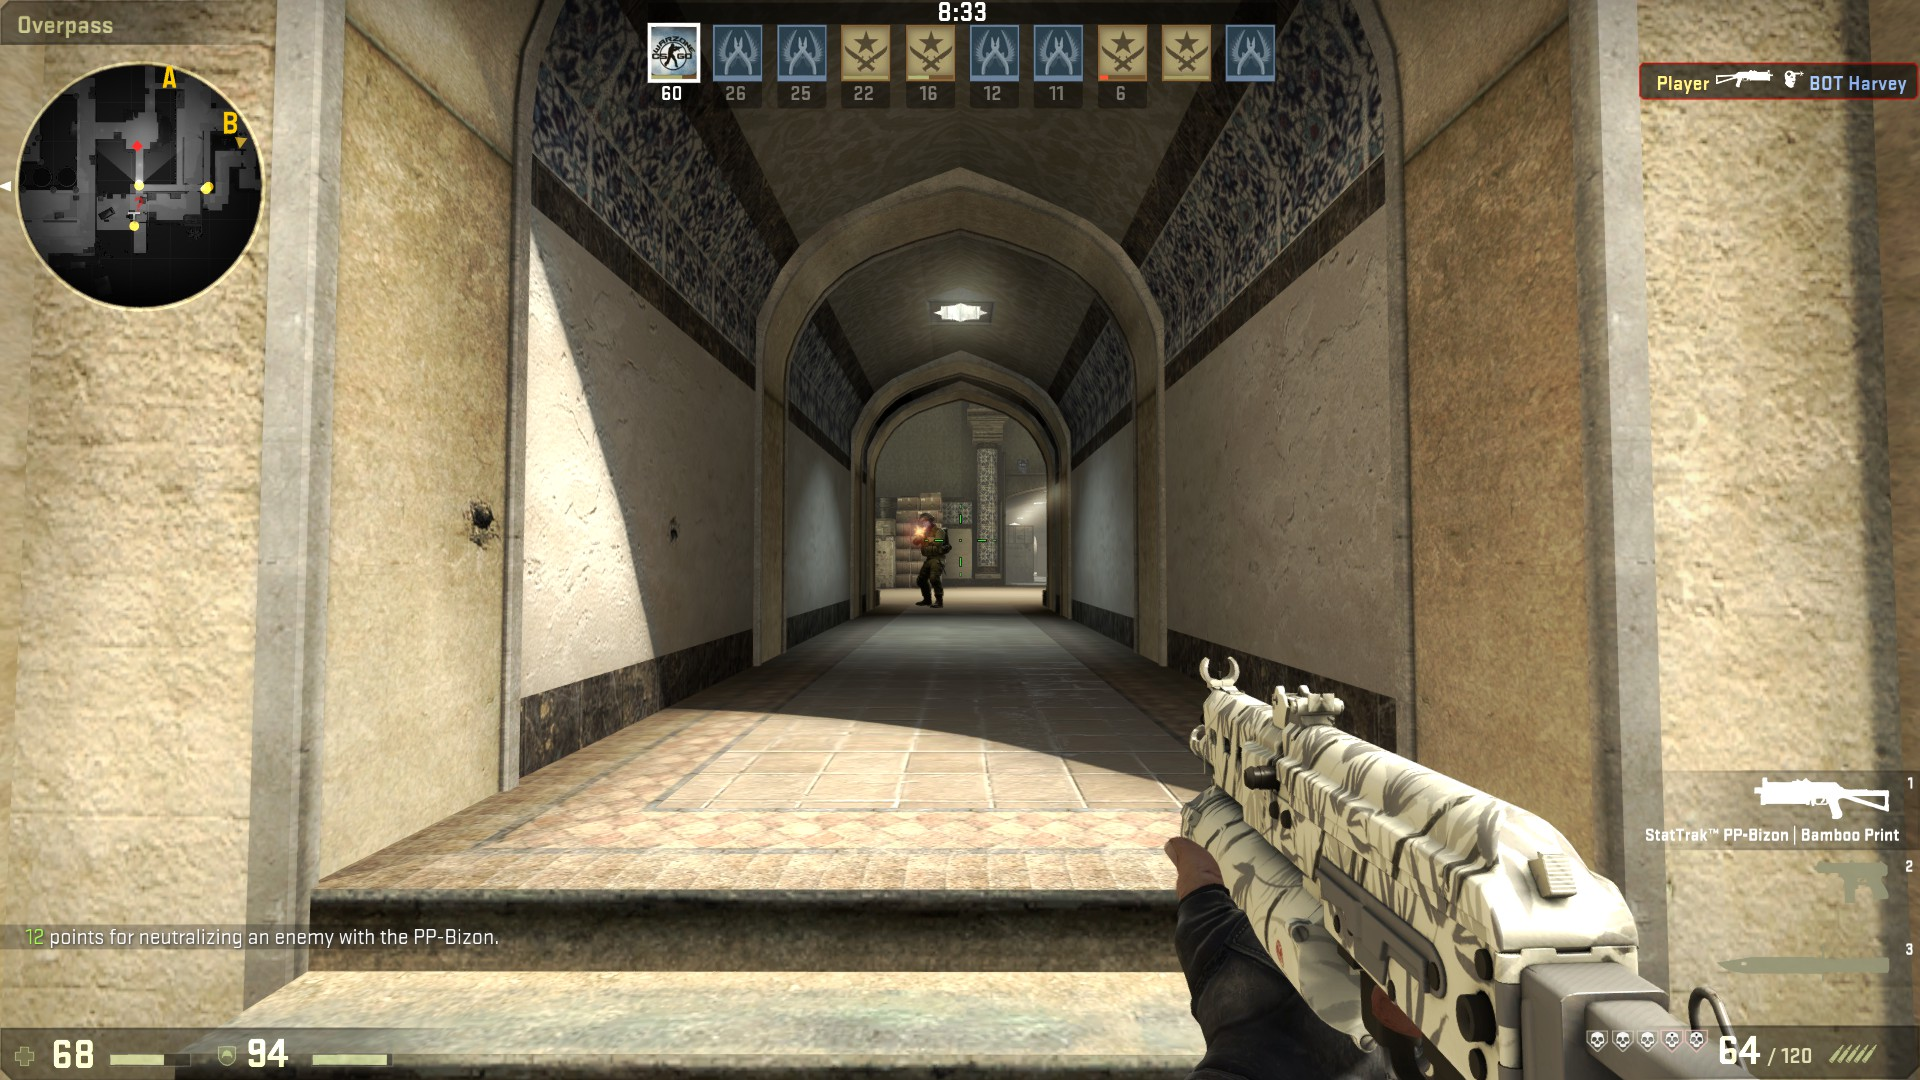c: (913, 513, 949, 608)
ch: (916, 512, 936, 534)
